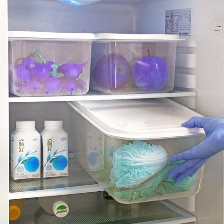bottle: (35, 115, 73, 182), (8, 117, 43, 183), (35, 193, 73, 220), (8, 198, 27, 223)
plastic_box: (64, 91, 214, 208), (81, 28, 188, 96), (8, 25, 99, 97)
